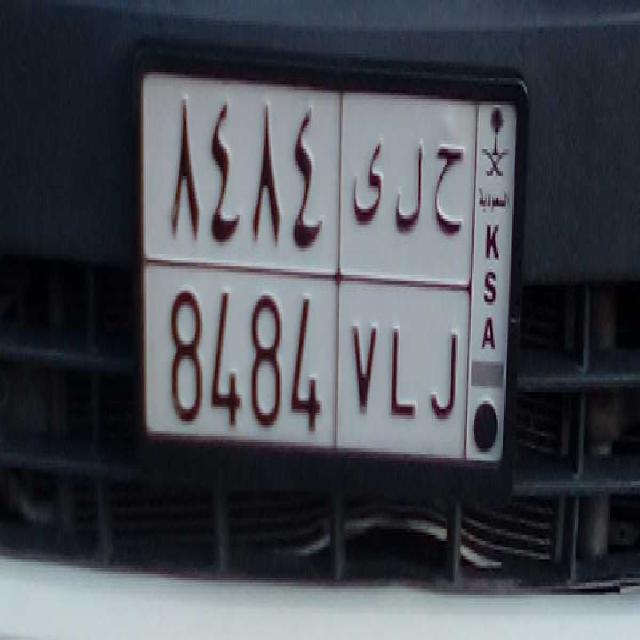license_plate: (145, 258, 467, 450)
